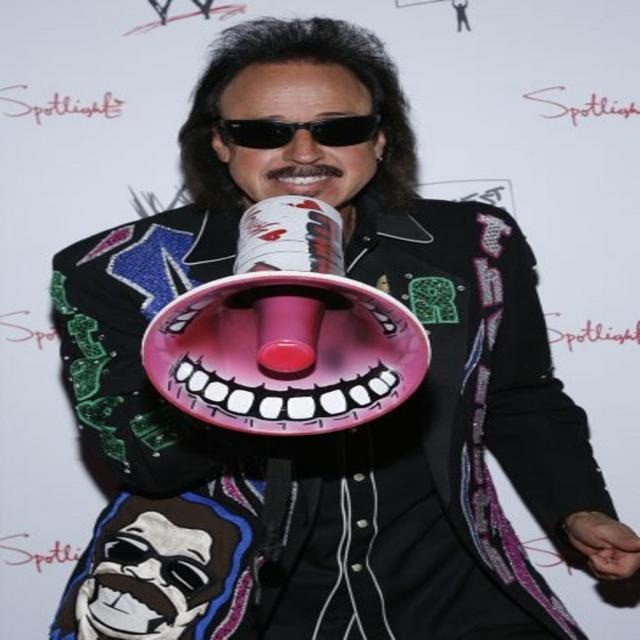nomask: (222, 77, 372, 211)
